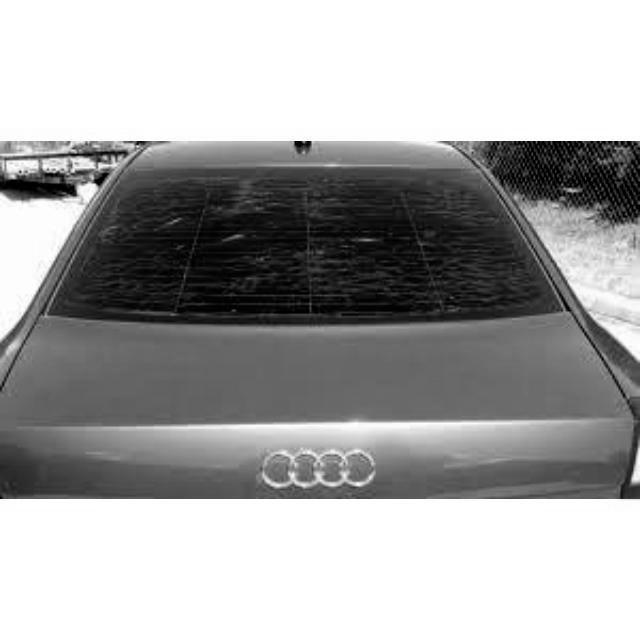Rear-windscreen-Damage: (83, 176, 533, 321)
